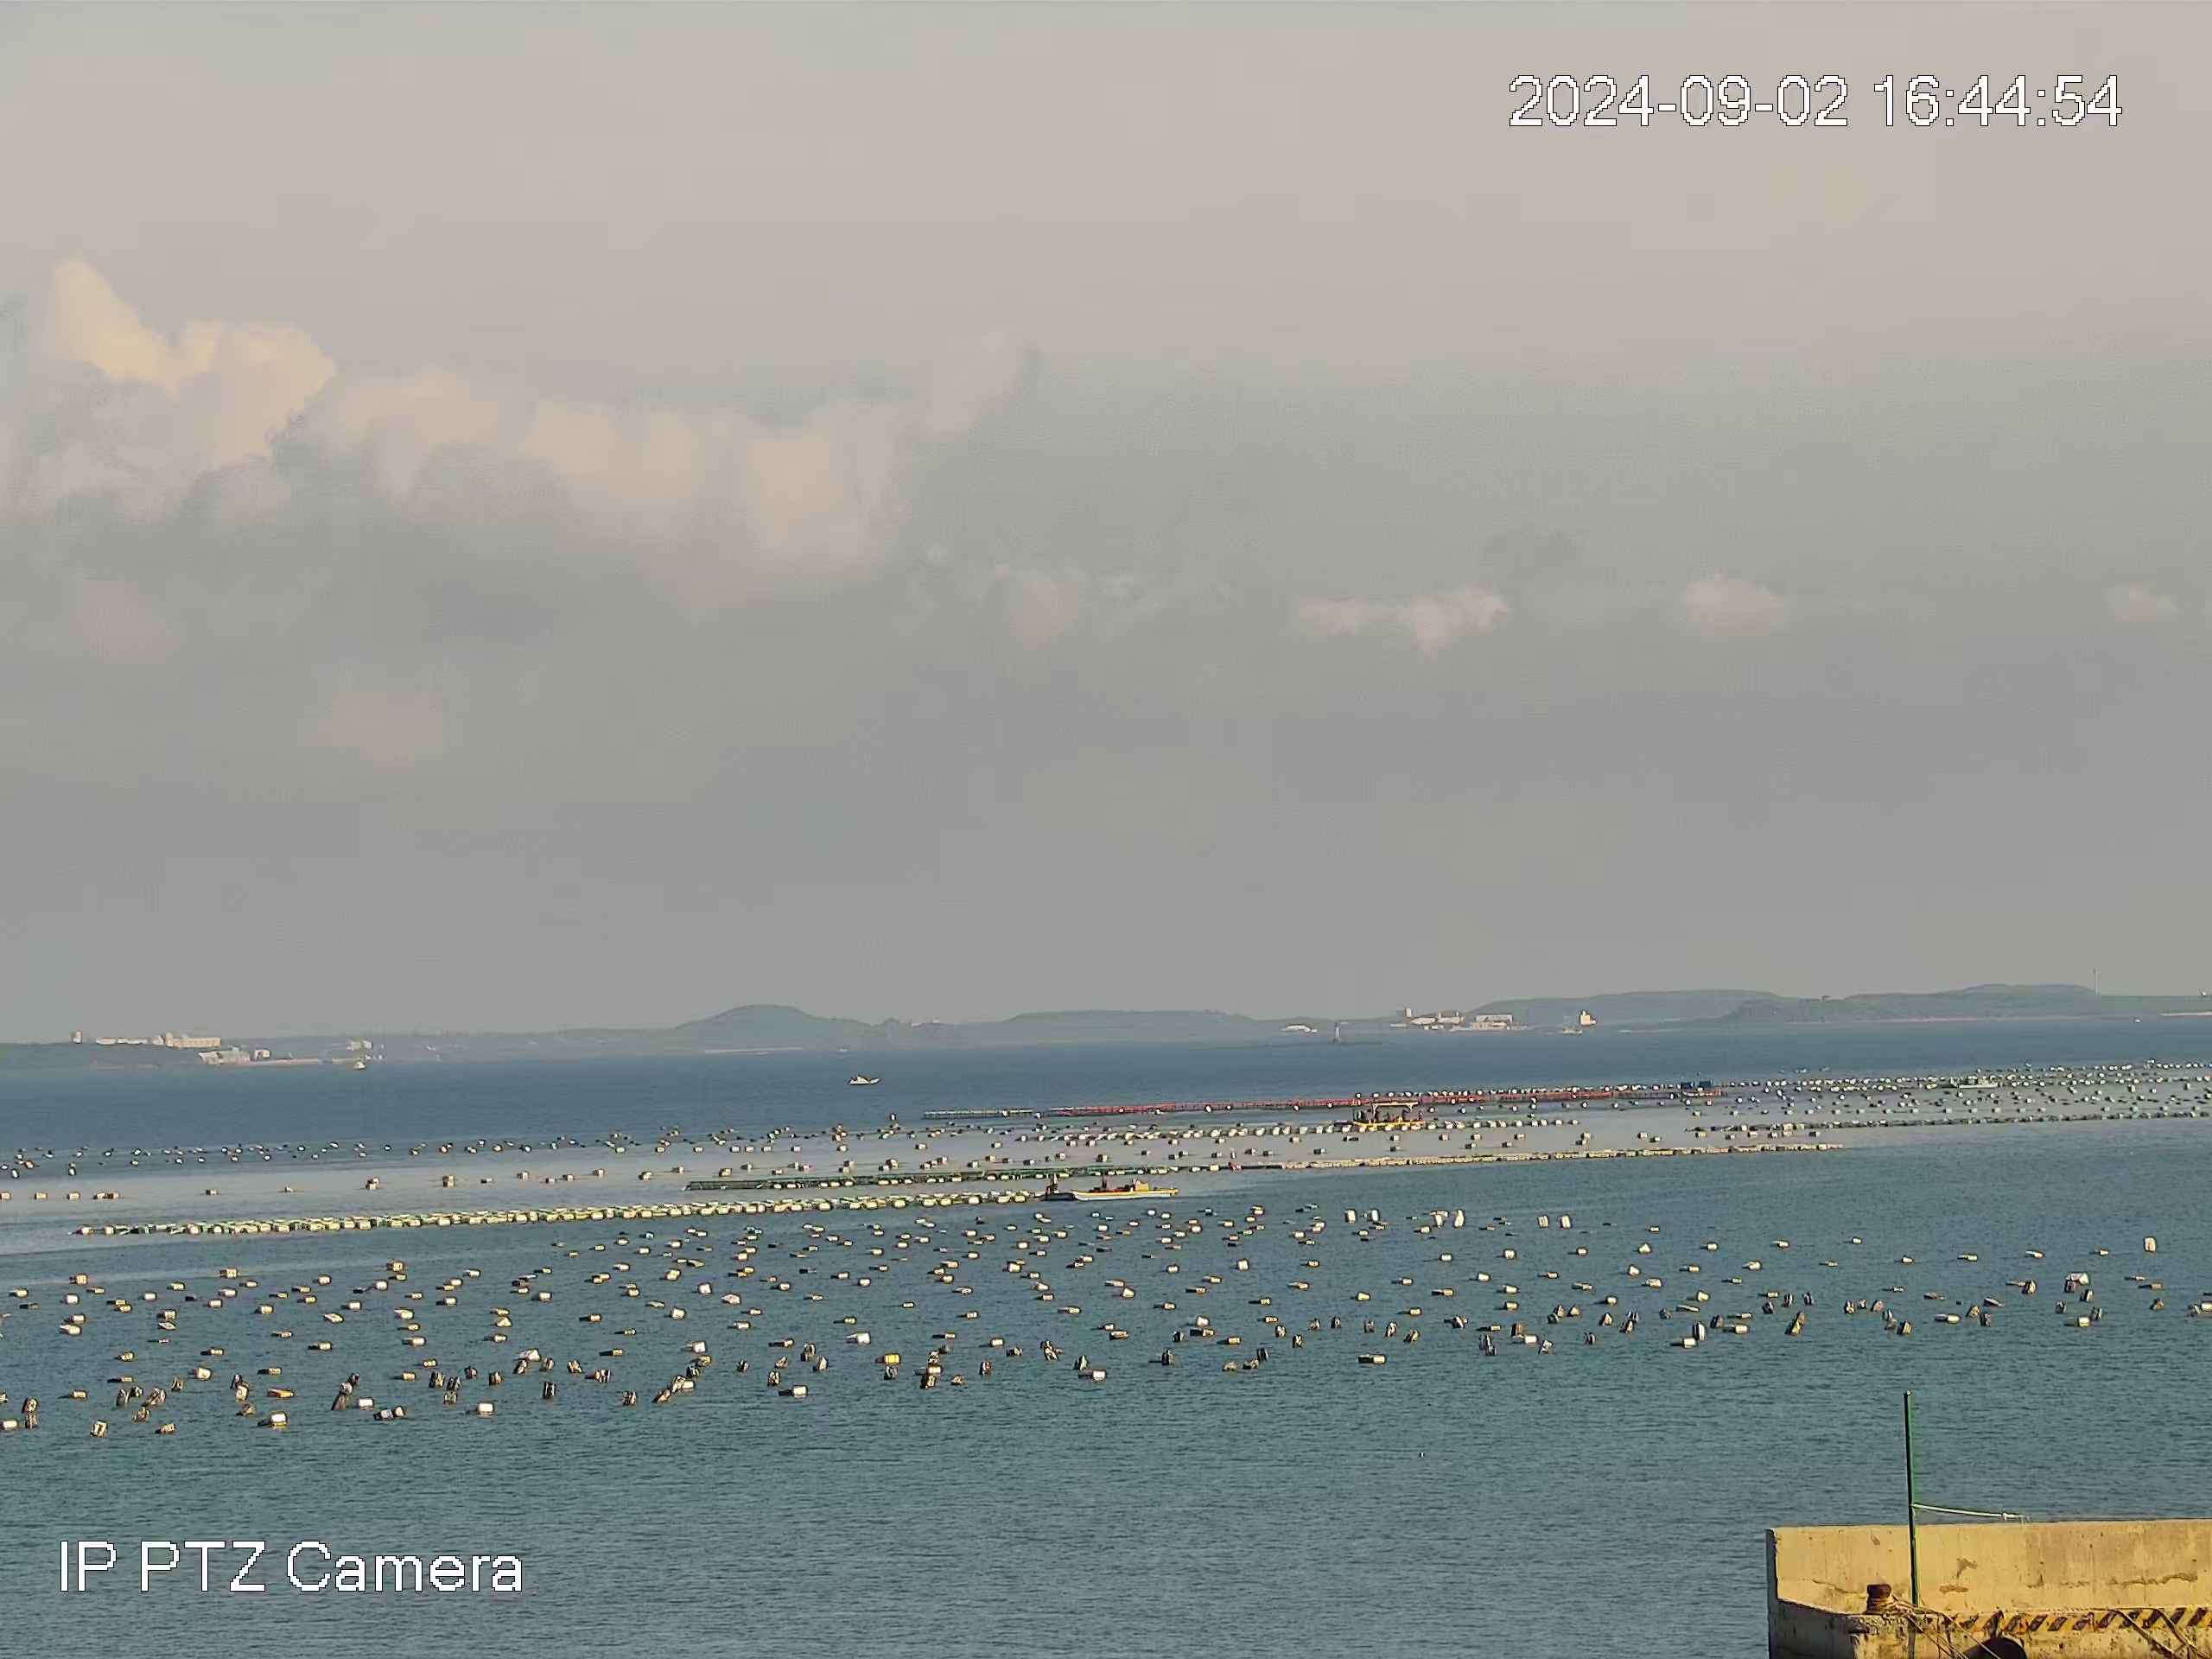boat: (1038, 1170, 1180, 1201), (1349, 1100, 1427, 1128), (1956, 1074, 1999, 1089), (847, 1073, 880, 1087)
